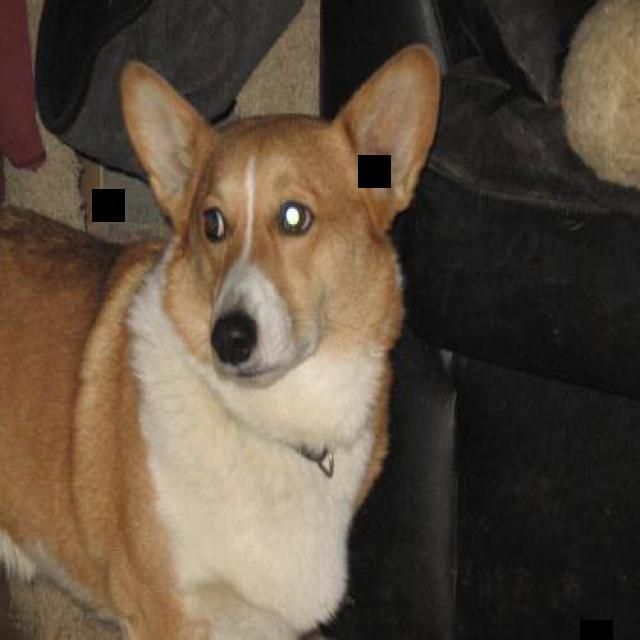adult_dog: (0, 41, 454, 640)
